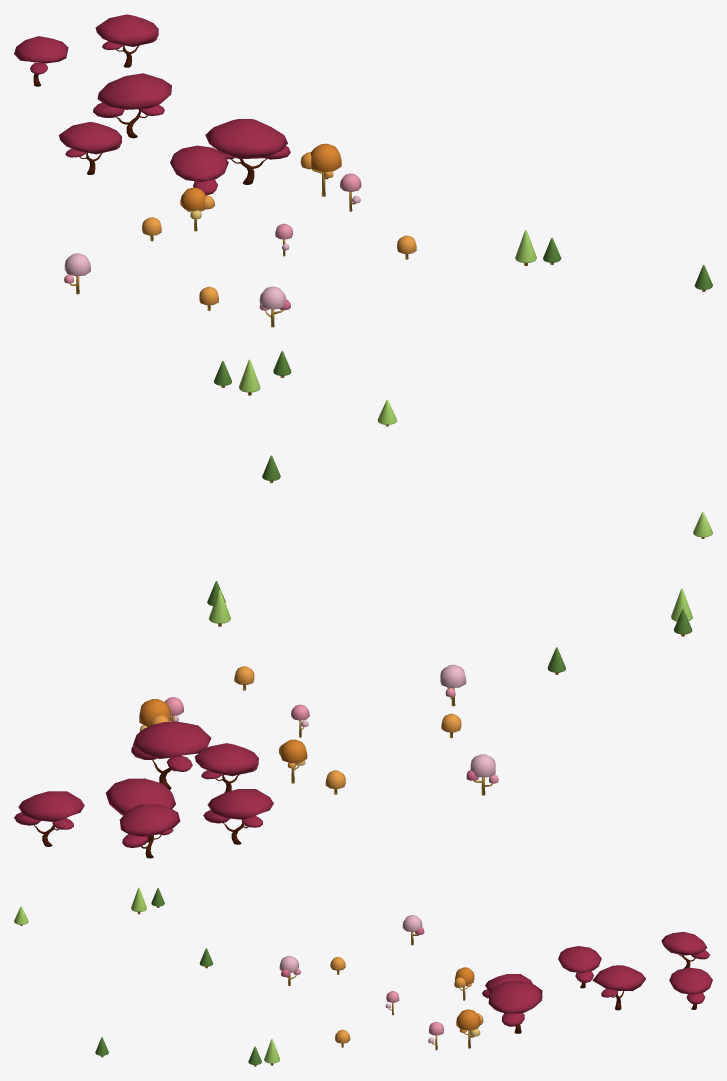
Rendered from trees.fbx.
The picture shows the model from 3 angles, top to bottom: view 1: azimuth 30°, elevation 25°; view 2: azimuth 150°, elevation 25°; view 3: azimuth 270°, elevation 25°; orthographic projection. The views are drawn at different scales.
Visible parts, largest first — view 1: tree-forest.001, tree-forest.003, tree-forest.002, tree-forest.004, tree-forest.007, tree-forest.005, tree-bell-4.001, tree-bell-4.002, tree-bell-3.001, tree-bell-3.002; view 2: tree-forest.001, tree-forest.004, tree-forest.007, tree-forest.005, tree-forest.002, tree-forest.003, tree-bell-3.002, tree-bell-4.001, tree-bell-4.002, tree-bell-3.001; view 3: tree-forest.001, tree-forest.003, tree-forest.004, tree-forest.007, tree-forest.005, tree-bell-4.001, tree-forest.002, tree-bell-3.001, tree-bell-4.002, tree-bell-3.002.
Part boxes in pixels (<box>): tree-forest.001: <box>205,119,290,184</box>; tree-forest.003: <box>93,73,171,138</box>; tree-forest.002: <box>170,145,228,195</box>; tree-forest.004: <box>59,122,121,174</box>; tree-forest.007: <box>95,14,158,67</box>; tree-forest.005: <box>14,36,68,86</box>; tree-bell-4.001: <box>300,143,341,196</box>; tree-bell-4.002: <box>180,187,214,231</box>; tree-bell-3.001: <box>259,286,290,327</box>; tree-bell-3.002: <box>64,253,90,294</box>; tree-forest.001: <box>131,721,211,789</box>; tree-forest.004: <box>203,789,273,844</box>; tree-forest.007: <box>14,791,84,846</box>; tree-forest.005: <box>119,804,180,858</box>; tree-forest.002: <box>194,743,258,792</box>; tree-forest.003: <box>105,778,175,842</box>; tree-bell-3.002: <box>466,754,498,795</box>; tree-bell-4.001: <box>139,699,170,731</box>; tree-bell-4.002: <box>279,739,307,783</box>; tree-bell-3.001: <box>440,664,466,706</box>; tree-forest.001: <box>488,981,542,1033</box>; tree-forest.003: <box>592,965,645,1010</box>; tree-forest.004: <box>558,946,601,988</box>; tree-forest.007: <box>669,967,712,1009</box>; tree-forest.005: <box>661,931,709,968</box>; tree-bell-4.001: <box>456,1009,483,1048</box>; tree-forest.002: <box>482,974,532,1013</box>; tree-bell-3.001: <box>279,956,300,985</box>; tree-bell-4.002: <box>454,967,474,1000</box>; tree-bell-3.002: <box>402,915,424,945</box>.
Bounding box in the file's own units: 6911 × 1230 × 12260.
